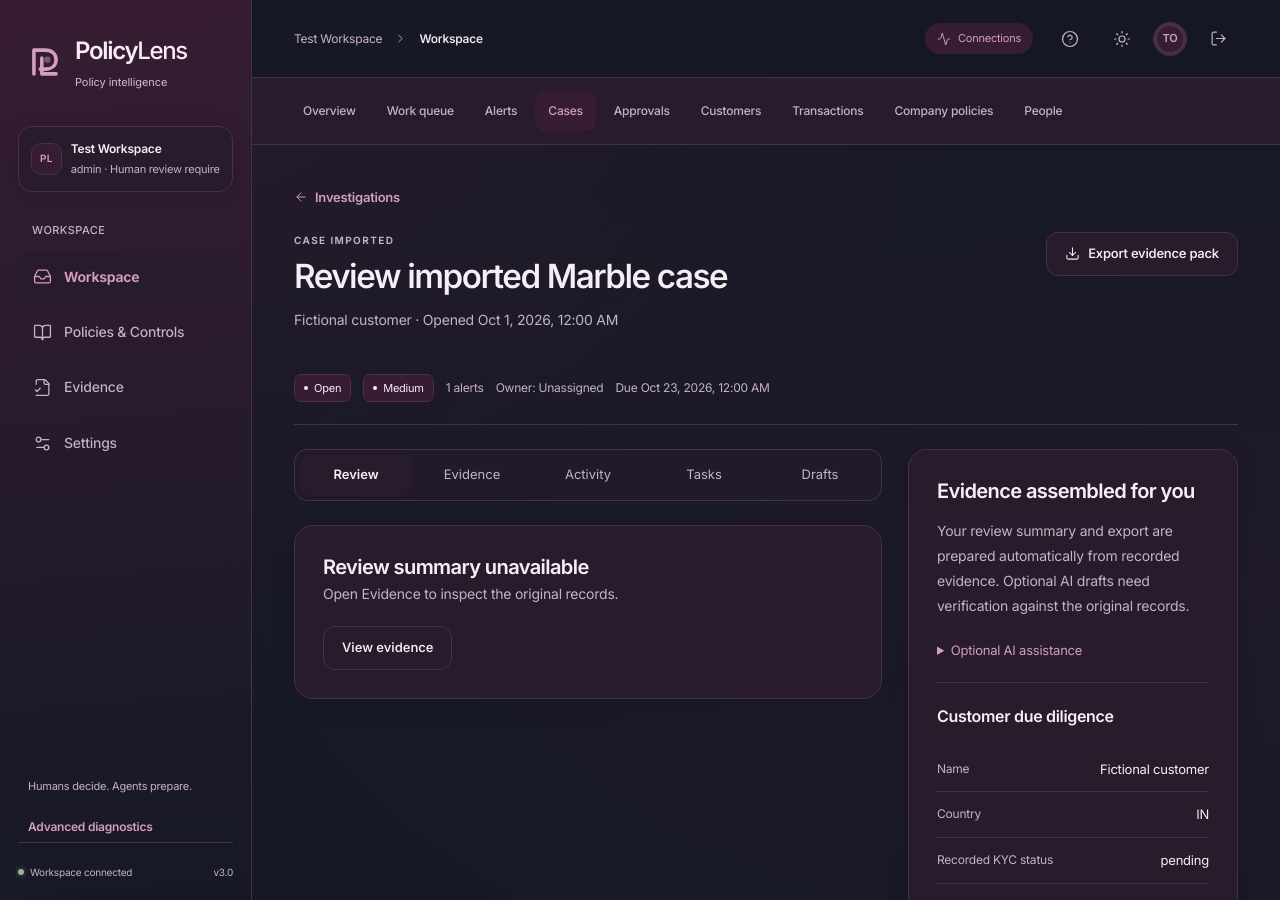
imported alerts render source provenance without a fabricated control link
The image size is (1280, 900).
Click the button "Evidence" at point(472, 475), box [416, 455, 528, 495]
(page scrolled)
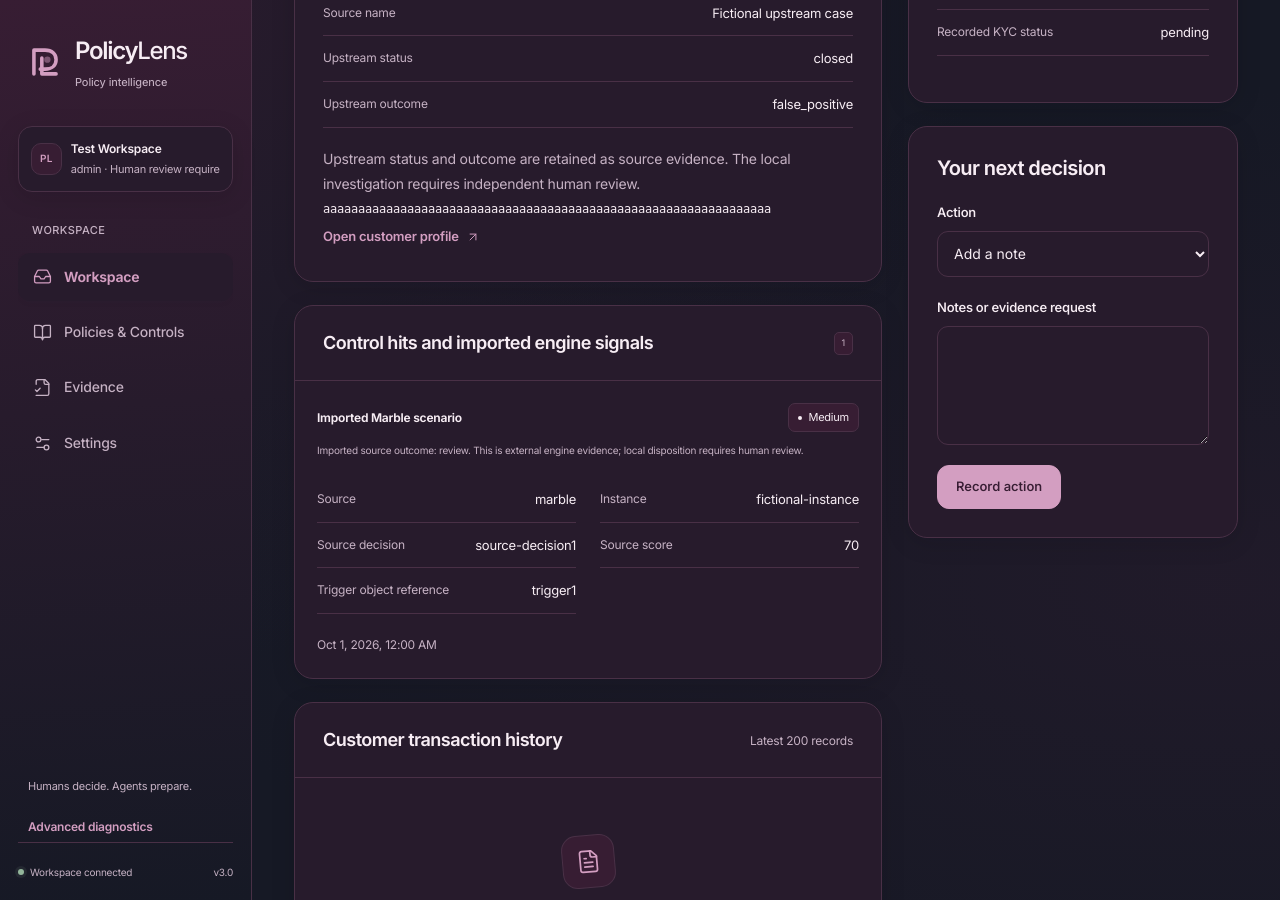
Now the text "Fictional upstream case" is shown, box [712, 3, 853, 23]
Now the text "Imported source outcome: review" is shown, box [317, 442, 859, 459]
